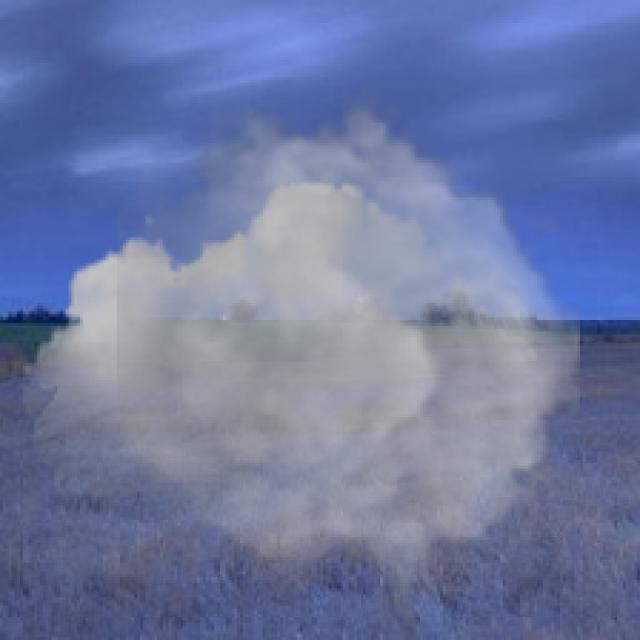smoke: (23, 86, 580, 603)
